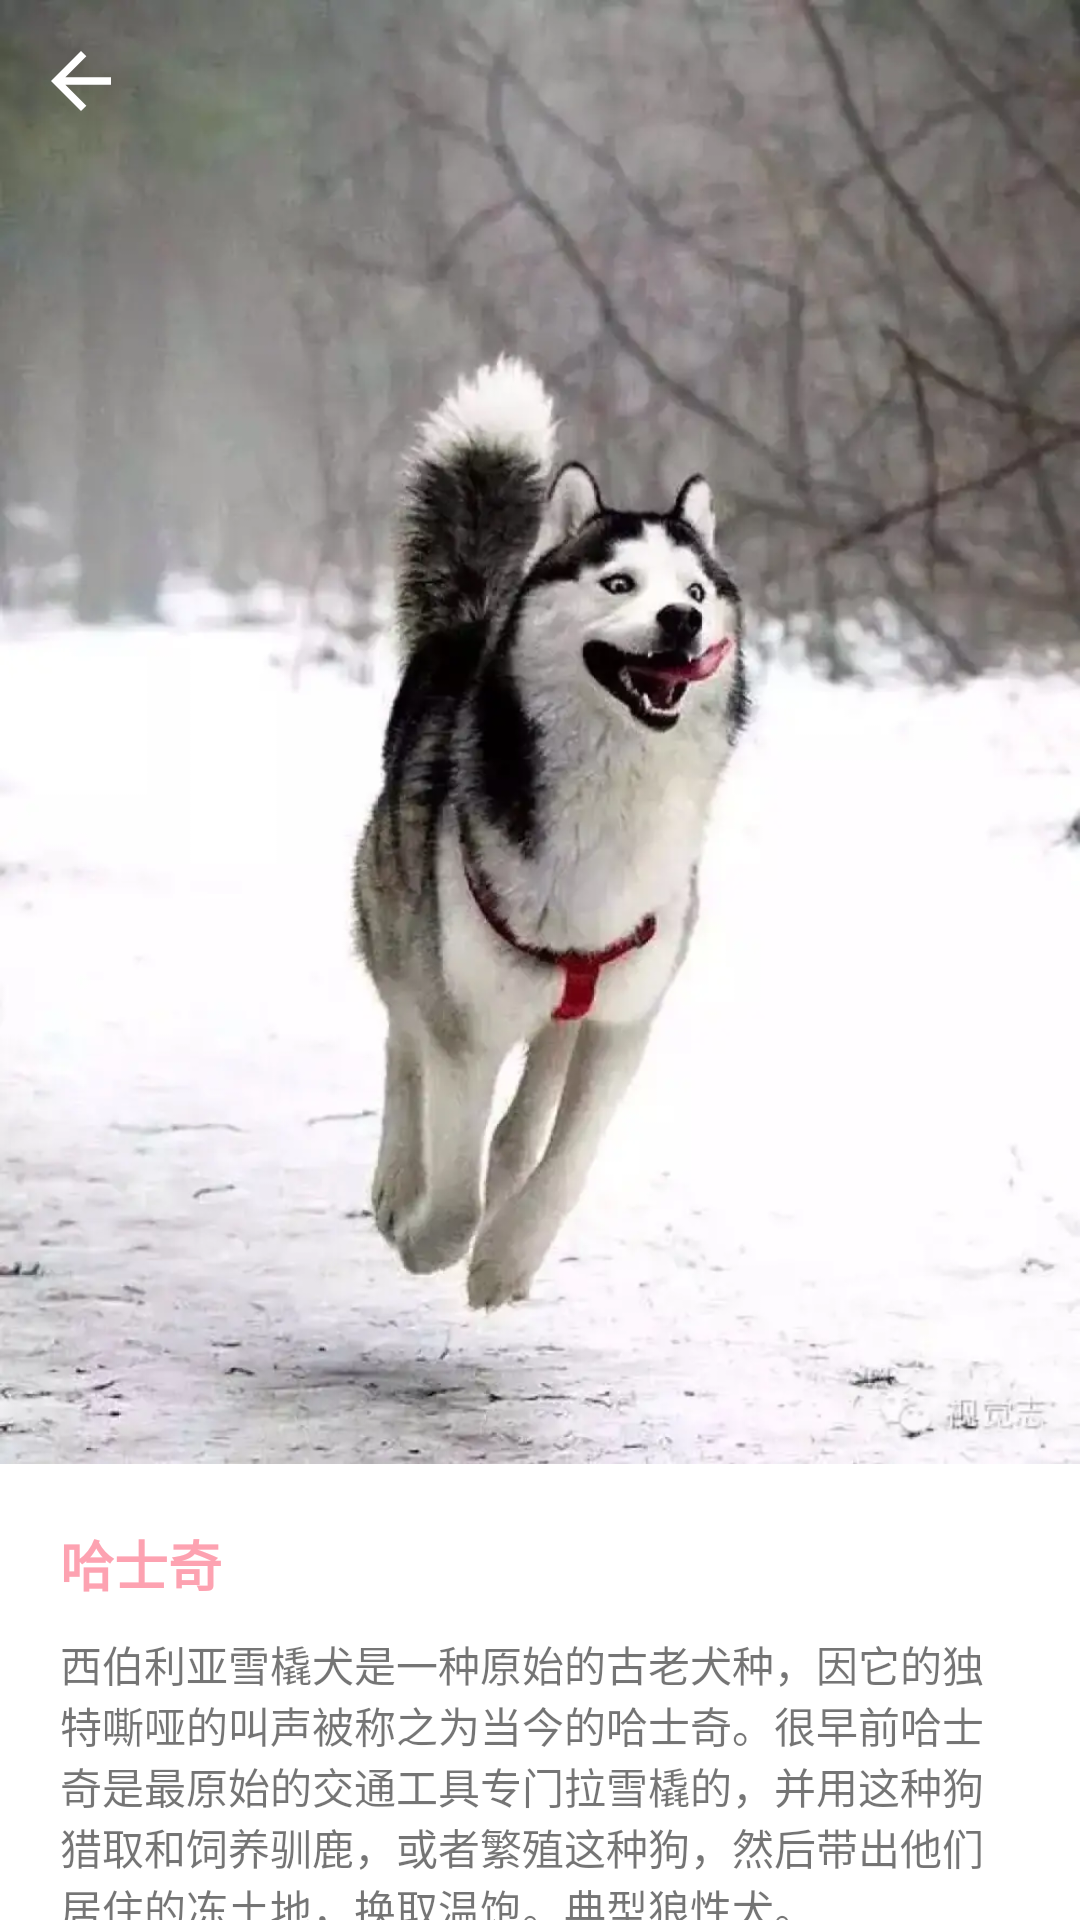

Icons on this 1080w x 1920h Android screen, each with the point to tap as (x,y):
back: (81,81)
